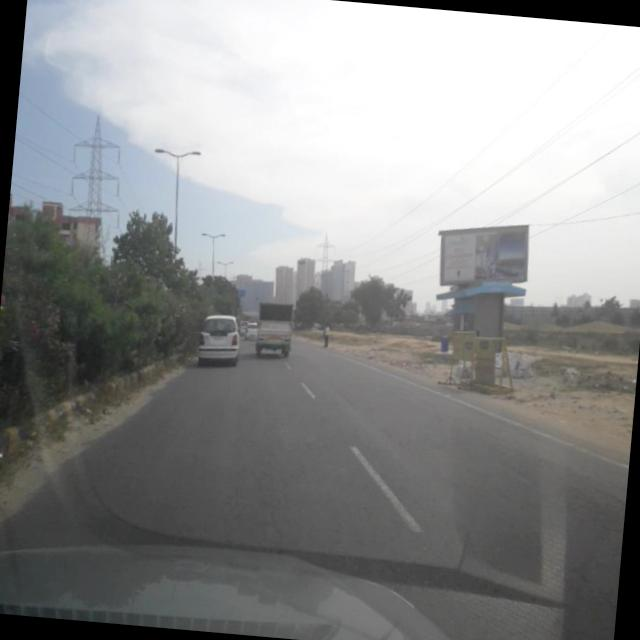crack: (87, 414, 310, 556), (488, 440, 629, 640)
